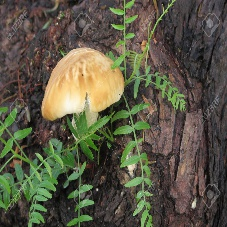mushroom: (38, 47, 127, 154)
